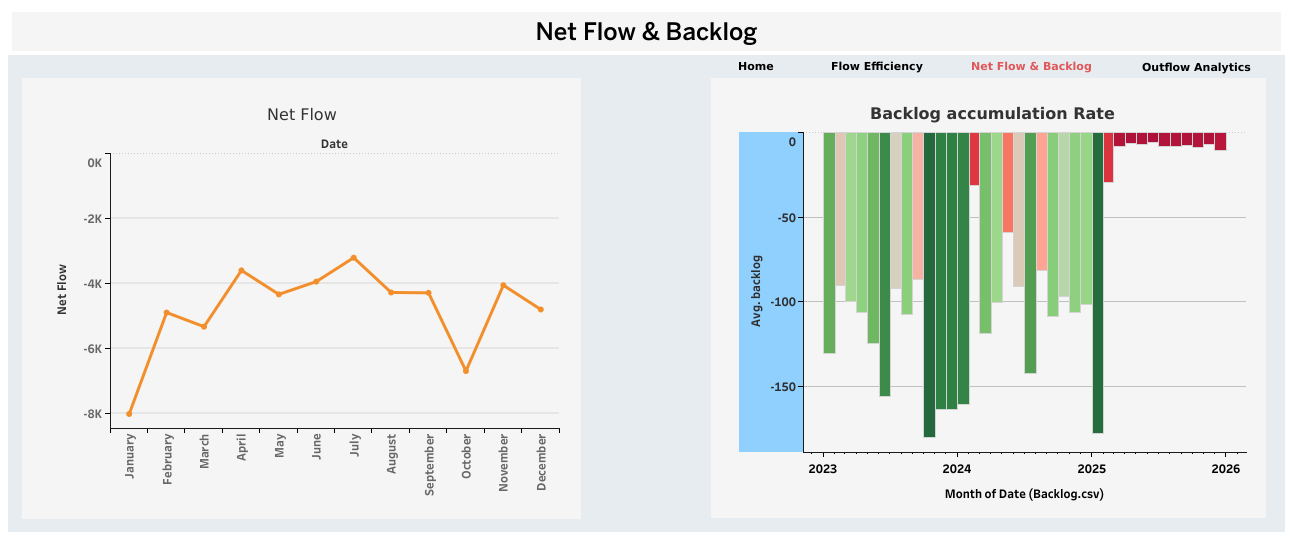

The dashboard page shown, as its layout file describes it:
{"tool":"tableau","page":{"name":"Net Flow & Backlog","canvas":[1000,1000],"units":"permille","ordinal":2},"visuals":[{"type":"title","box":[6.9,16.5,986.1,96.9]},{"type":"dashboard-object","box":[549.8,104.9,69.5,32.5]},{"type":"dashboard-object","box":[873.4,104.9,104,35.5]},{"type":"dashboard-object","box":[631.2,105.1,94.4,32.6]},{"type":"dashboard-object","box":[741.1,105.1,113.4,34.4]},{"type":"worksheet","title":"Backlog accumulation Rate","mark":"Bar","rows":["Calculation_455989465299652618"],"cols":["Date (Backlog.csv)"],"box":[571.4,181.2,392.2,760.9]},{"type":"worksheet","title":"Net Flow","mark":"Automatic","rows":["Net_Flow"],"cols":["Date"],"box":[34.6,183,397.4,757.2]}]}

Visuals, with their boxes on the dashboard's canvas, which has no fixed pixel size, in thousandths of its width and height (x1, y1, x2, y2). These are canvas units, not pixel positions in the 1292x539 screenshot, which may show the page scaled, cropped or inside an application window:
title: [left=7, top=16, right=993, bottom=113]
dashboard-object: [left=550, top=105, right=619, bottom=137]
dashboard-object: [left=873, top=105, right=977, bottom=140]
dashboard-object: [left=631, top=105, right=726, bottom=138]
dashboard-object: [left=741, top=105, right=854, bottom=140]
"Backlog accumulation Rate" worksheet (Bar marks): [left=571, top=181, right=964, bottom=942]
"Net Flow" worksheet: [left=35, top=183, right=432, bottom=940]
